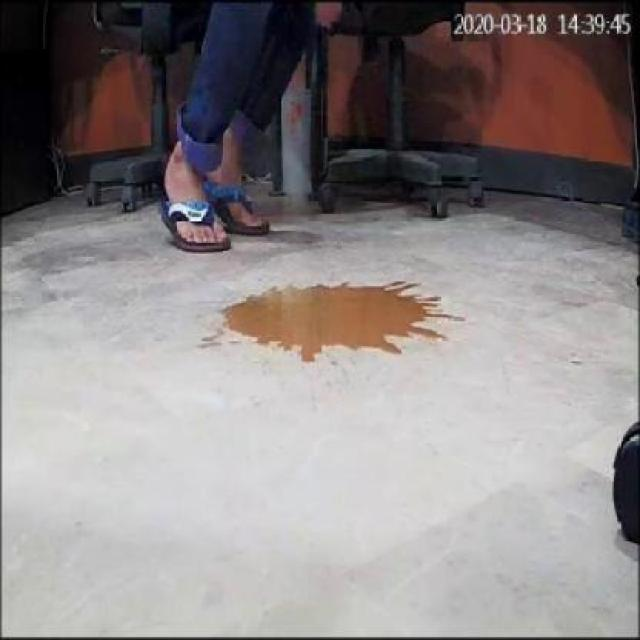spillage: (224, 287, 436, 364)
